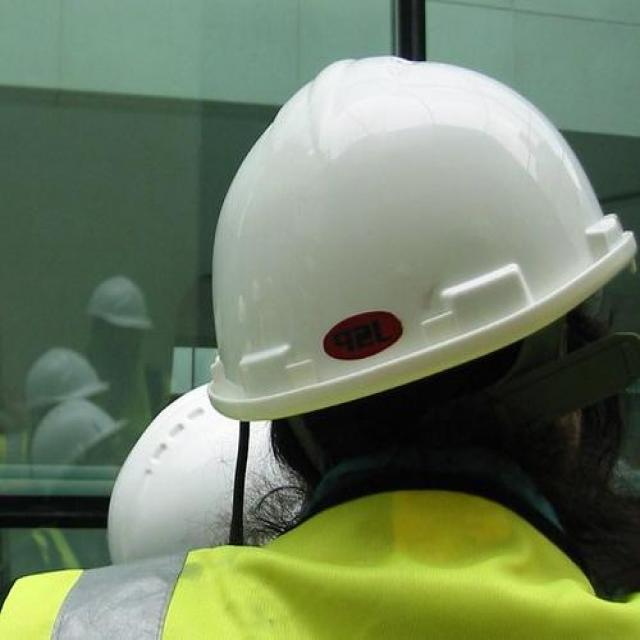Reflective-Jacket: (15, 428, 639, 640)
Safety-Helmet: (196, 47, 636, 438), (78, 266, 165, 341)
